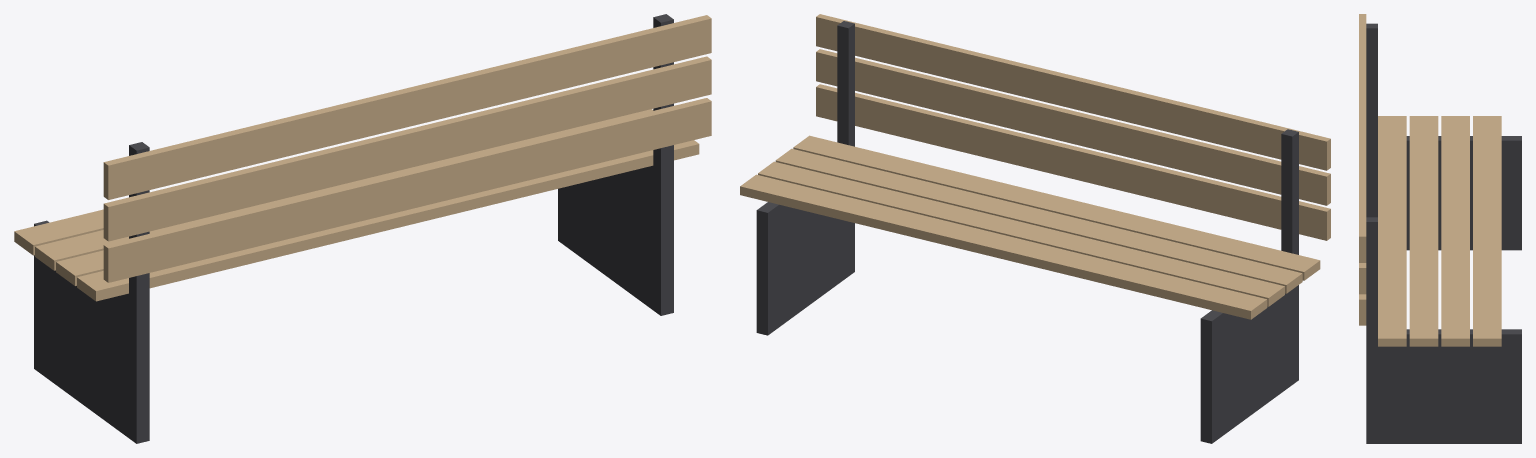
The model's file is park_bench.glb.
3 renders of one model, left to right at view 1: azimuth 30°, elevation 25°; view 2: azimuth 150°, elevation 25°; view 3: azimuth 270°, elevation 25°, orthographic. The views are drawn at different scales.
Visible parts, largest first — view 1: back_slat_3, back_slat_1, back_slat_2, leg_l, seat_slat_1, leg_r, post_l, post_r, seat_slat_3, seat_slat_4, seat_slat_2; view 2: back_slat_3, back_slat_1, back_slat_2, seat_slat_4, leg_l, seat_slat_1, seat_slat_2, seat_slat_3, leg_r, post_l, post_r; view 3: leg_r, seat_slat_2, seat_slat_1, seat_slat_3, seat_slat_4, leg_l, post_r, post_l, back_slat_3, back_slat_1, back_slat_2.
Boxes of the visible parts, bbox=[...] form: back_slat_3: bbox=[103, 15, 711, 199]; back_slat_1: bbox=[103, 98, 711, 282]; back_slat_2: bbox=[103, 56, 711, 241]; leg_l: bbox=[34, 220, 128, 437]; seat_slat_1: bbox=[77, 140, 699, 301]; leg_r: bbox=[558, 165, 653, 309]; post_l: bbox=[129, 142, 149, 443]; post_r: bbox=[653, 14, 673, 315]; seat_slat_3: bbox=[35, 109, 653, 270]; seat_slat_4: bbox=[14, 209, 103, 255]; seat_slat_2: bbox=[56, 250, 103, 285]; back_slat_3: bbox=[816, 14, 1330, 170]; back_slat_1: bbox=[816, 84, 1330, 240]; back_slat_2: bbox=[816, 49, 1330, 205]; seat_slat_4: bbox=[740, 174, 1267, 319]; leg_l: bbox=[1200, 290, 1292, 443]; seat_slat_1: bbox=[793, 135, 1320, 280]; seat_slat_2: bbox=[775, 148, 1302, 293]; seat_slat_3: bbox=[758, 161, 1284, 306]; leg_r: bbox=[756, 202, 848, 335]; post_l: bbox=[1281, 129, 1298, 384]; post_r: bbox=[837, 21, 854, 275]; leg_r: bbox=[1378, 329, 1521, 443]; seat_slat_2: bbox=[1409, 116, 1438, 346]; seat_slat_1: bbox=[1378, 116, 1406, 346]; seat_slat_3: bbox=[1441, 116, 1469, 346]; seat_slat_4: bbox=[1473, 116, 1501, 346]; leg_l: bbox=[1406, 136, 1521, 250]; post_r: bbox=[1366, 217, 1377, 443]; post_l: bbox=[1366, 23, 1377, 217]; back_slat_3: bbox=[1359, 14, 1366, 262]; back_slat_1: bbox=[1359, 294, 1366, 325]; back_slat_2: bbox=[1359, 263, 1366, 294].
Size of the model in its own units: 1.83 by 0.85 by 0.565.
